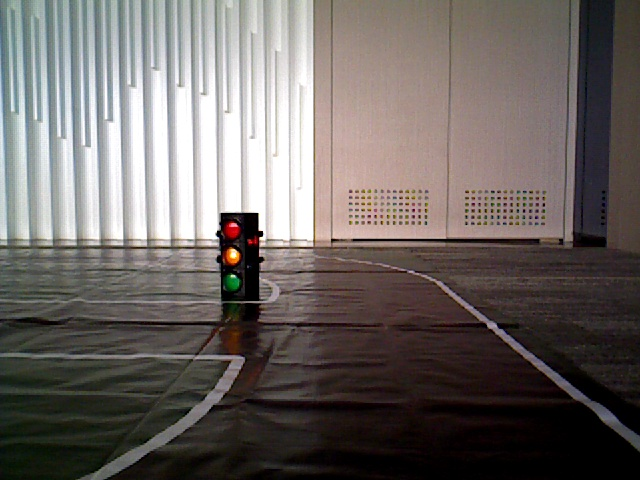yellow: (218, 219, 250, 297)
